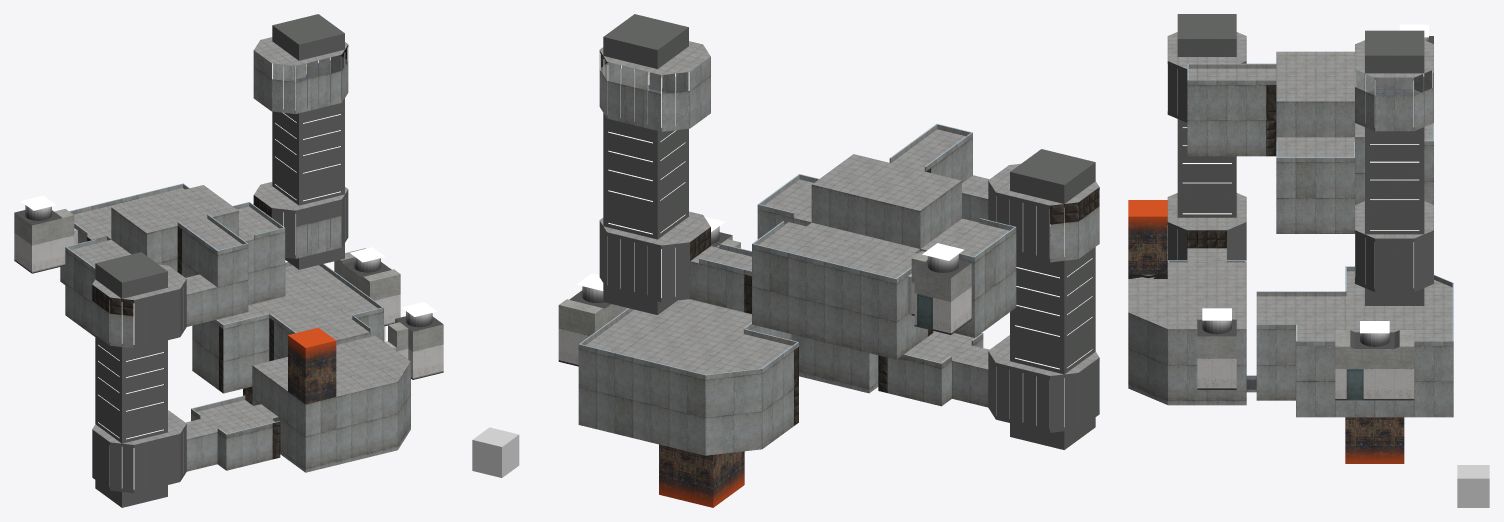
3 views of the same model, side by side, from view 1: azimuth 30°, elevation 25°; view 2: azimuth 150°, elevation 25°; view 3: azimuth 270°, elevation 25° (orthographic). The views are drawn at different scales.
Visible parts, largest first — view 1: world_geometry_234; view 2: world_geometry_234, Cube_0; view 3: world_geometry_234, Cube_0.
Boxes of the visible parts, x1,y1,x2,y2 form: world_geometry_234: [14, 14, 443, 507]; world_geometry_234: [558, 14, 1099, 507]; Cube_0: [472, 427, 519, 477]; world_geometry_234: [1128, 14, 1453, 463]; Cube_0: [1457, 465, 1489, 507].
Bounding box in the file's own units: 31.48 × 29.26 × 22.34.
51 materials, 46 textured.
